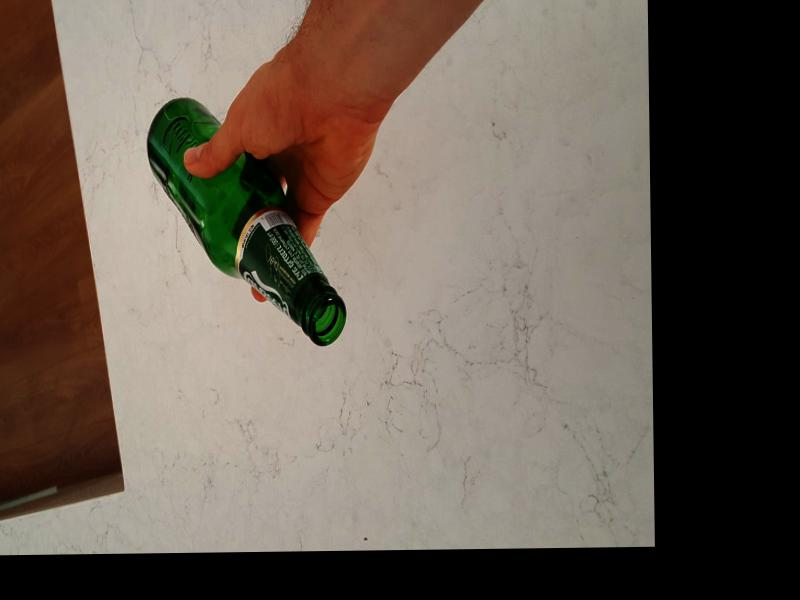Beer: (147, 97, 349, 350)
